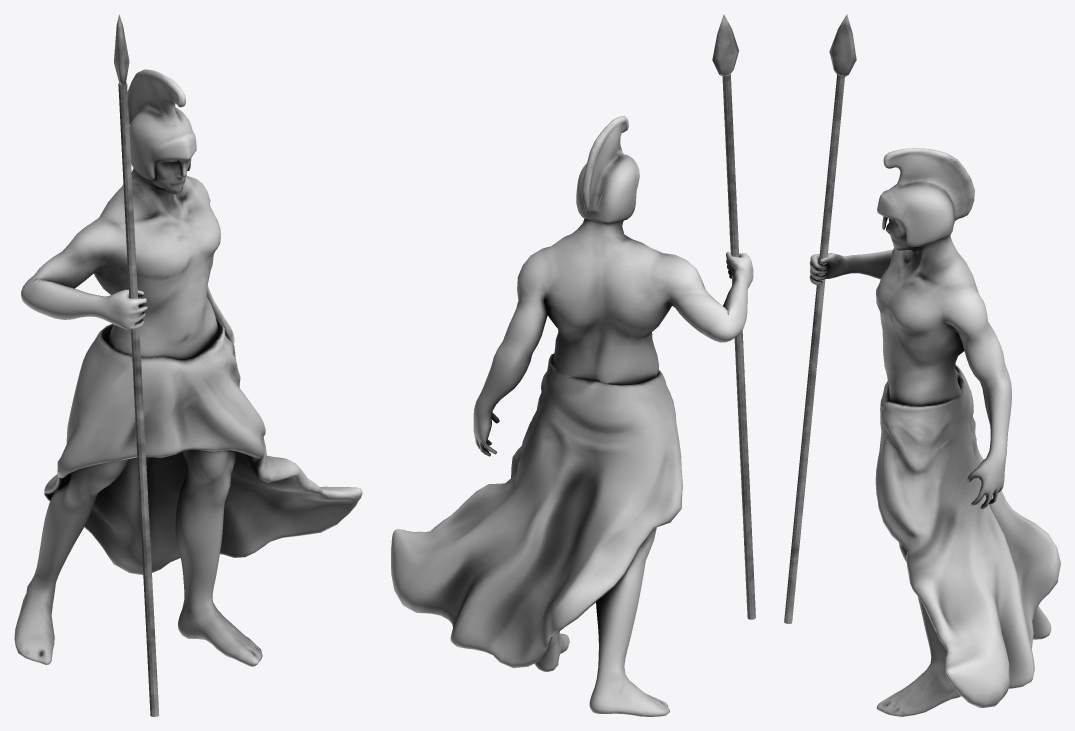
Rendered from armor_ab00012a.glb.
3 renders of one model, left to right at view 1: azimuth 30°, elevation 25°; view 2: azimuth 150°, elevation 25°; view 3: azimuth 270°, elevation 25°, orthographic. The views are drawn at different scales.
Parts seen in each view (by area): view 1: low:Group48239.1_0; view 2: low:Group48239.1_0; view 3: low:Group48239.1_0.
Boxes of the visible parts, x1=… form: low:Group48239.1_0: x1=14, y1=14, x2=362, y2=716; low:Group48239.1_0: x1=391, y1=14, x2=755, y2=716; low:Group48239.1_0: x1=784, y1=14, x2=1060, y2=716.
Size of the model in its own units: 3.15 by 5.97 by 2.38.
1 material, 1 textured.
